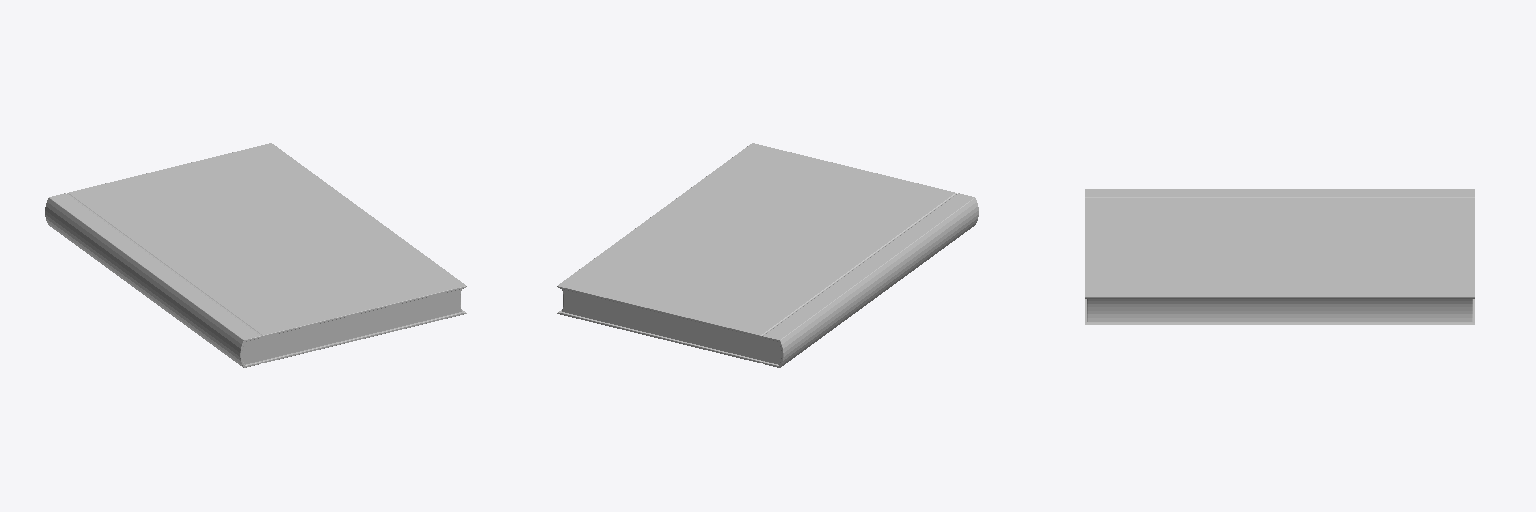
File: Book_OBJ.obj
The picture shows the model from 3 angles: view 1: azimuth 30°, elevation 25°; view 2: azimuth 150°, elevation 25°; view 3: azimuth 270°, elevation 25°; orthographic projection.
Parts seen in each view (by area): view 1: Book; view 2: Book; view 3: Book.
Part boxes in pixels (left/top/right/bottom): Book: left=45, top=143, right=466, bottom=367; Book: left=557, top=143, right=978, bottom=367; Book: left=1085, top=189, right=1474, bottom=324.
Bounding box in the file's own units: 6.73 × 0.7949 × 10.05.